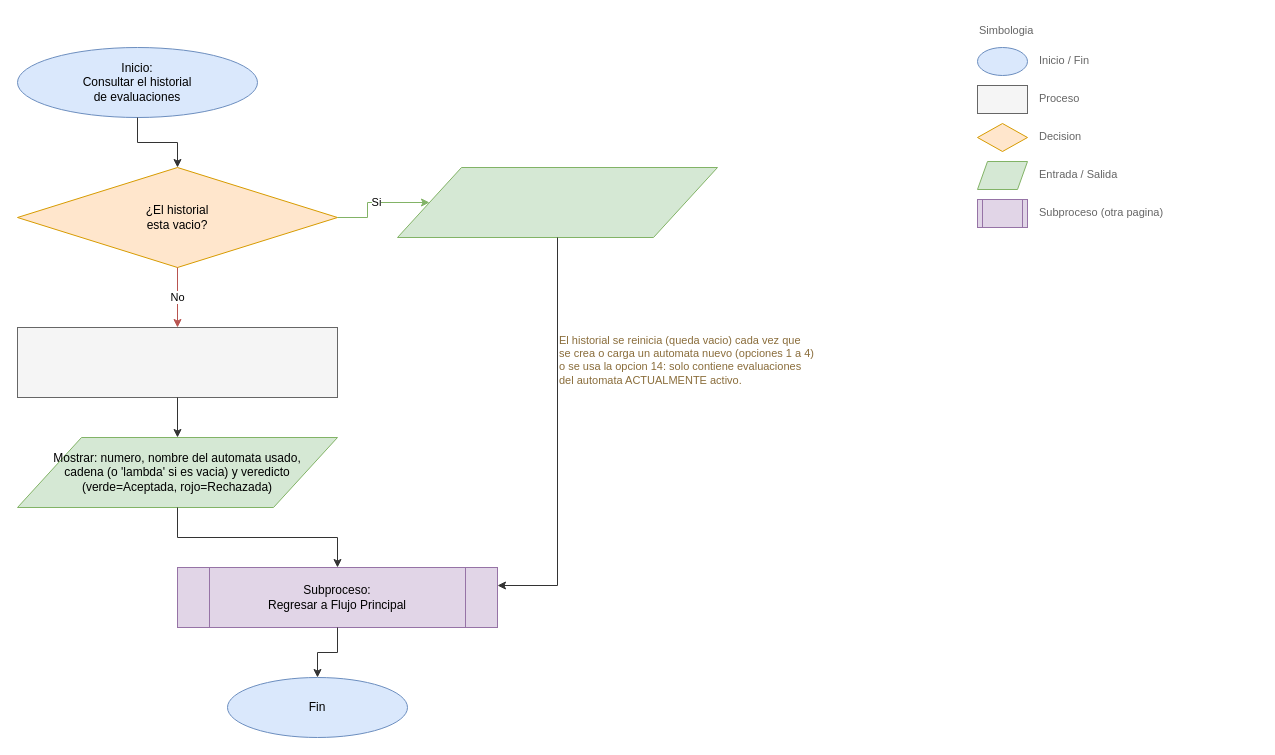
This 1275x755 diagram has some shape labels left out. Here are the shapes that lost their labels. From the top down, the centre of each, then its label:
(x=557, y=202): Mostrar: 'Aun no se ha evaluado ninguna cadena con el automata actual'
(x=177, y=362): Para cada registro (en el orden en que se evaluaron), numerado desde 1:
